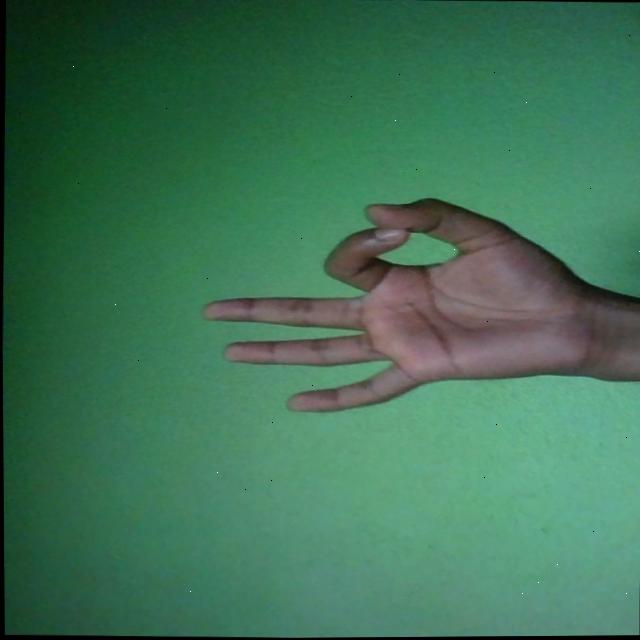Ok: (197, 194, 608, 419)
